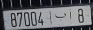0: (30, 11, 37, 26), (24, 12, 30, 27)
4: (38, 11, 44, 26)
7: (17, 11, 23, 28)
8: (77, 8, 84, 23), (11, 12, 17, 28)
b: (54, 11, 67, 22)
